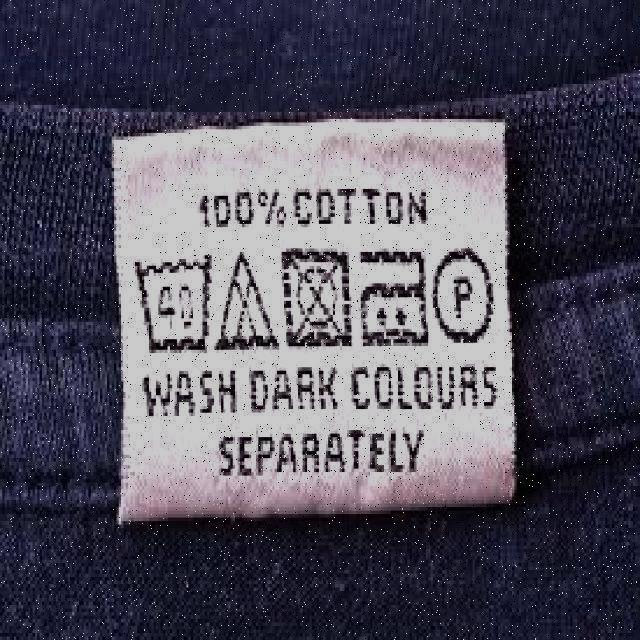40C: (131, 248, 217, 354)
DN_bleach: (215, 251, 277, 351)
DN_tumble_dry: (281, 244, 356, 347)
dry_clean_any_solvent_except_trichloroethylene: (432, 243, 494, 349)
iron_medium: (356, 246, 433, 349)
